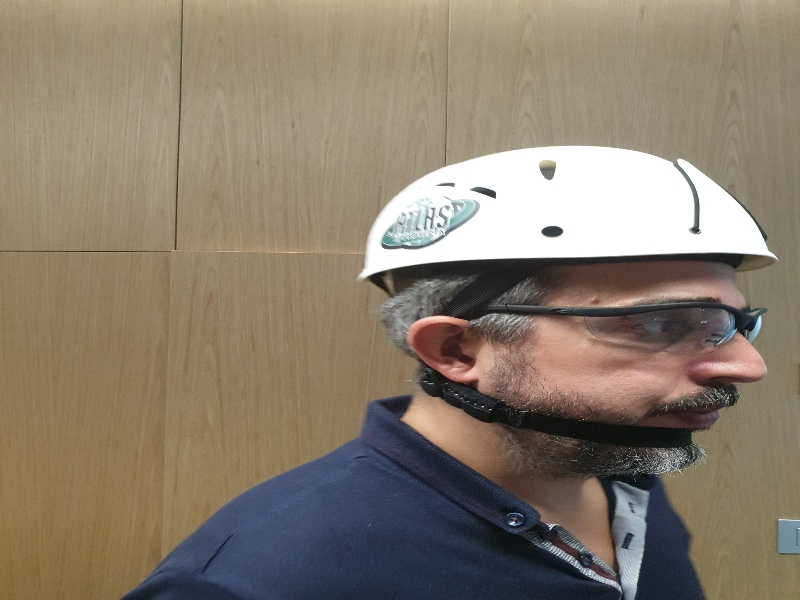Baret: (374, 149, 774, 284)
Gozluk: (481, 288, 776, 349)
